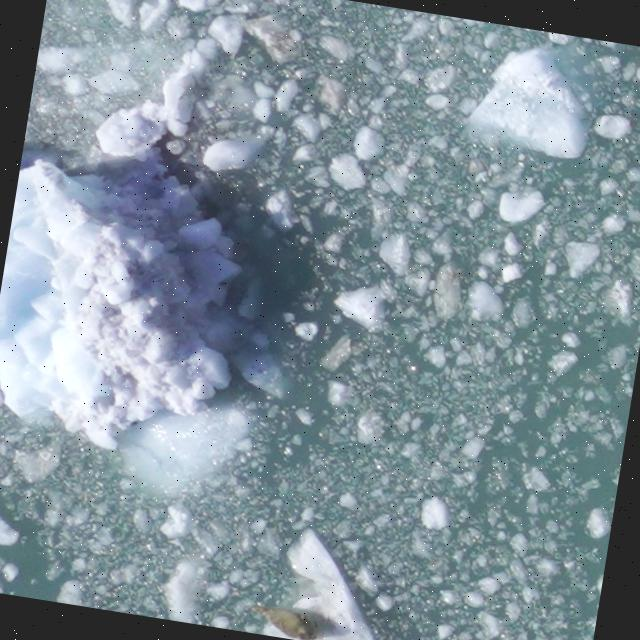seal: (245, 597, 329, 640)
